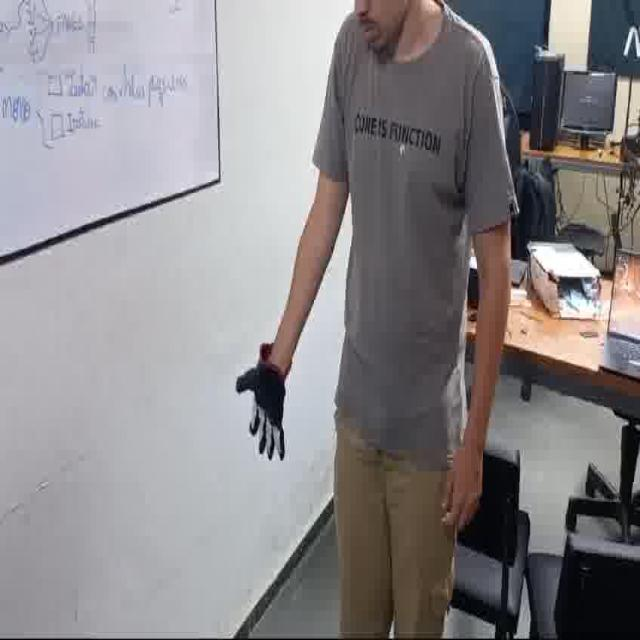Gloves: (235, 343, 288, 463)
